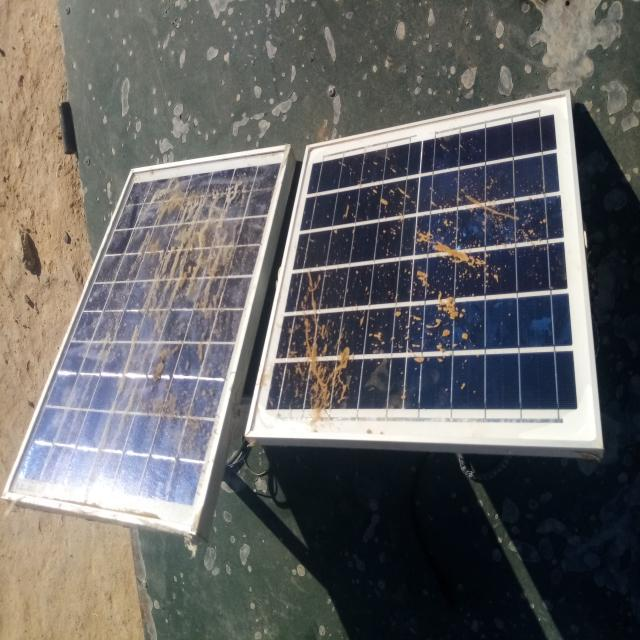faulty: (246, 92, 602, 450), (2, 145, 291, 537)
